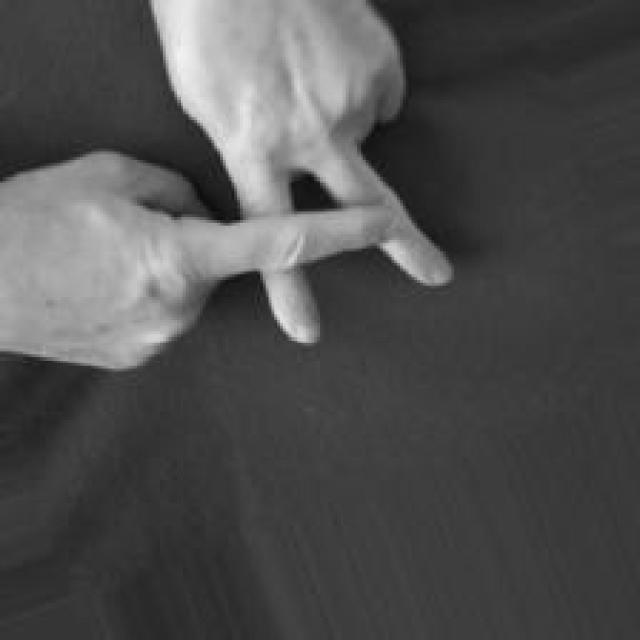A: (2, 0, 456, 376)
